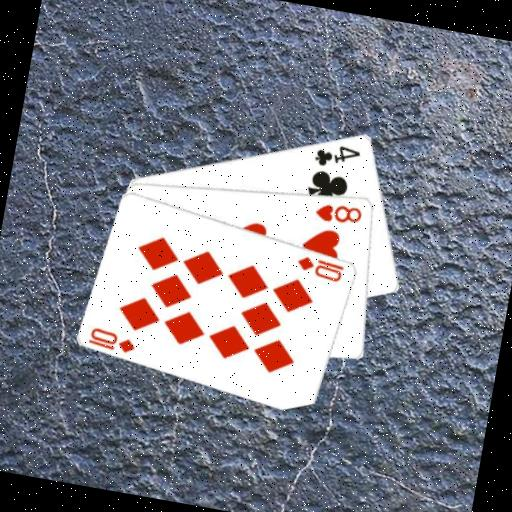10D: (84, 322, 140, 356), (293, 251, 347, 283)
4C: (310, 137, 364, 173)
8H: (311, 197, 365, 229)
